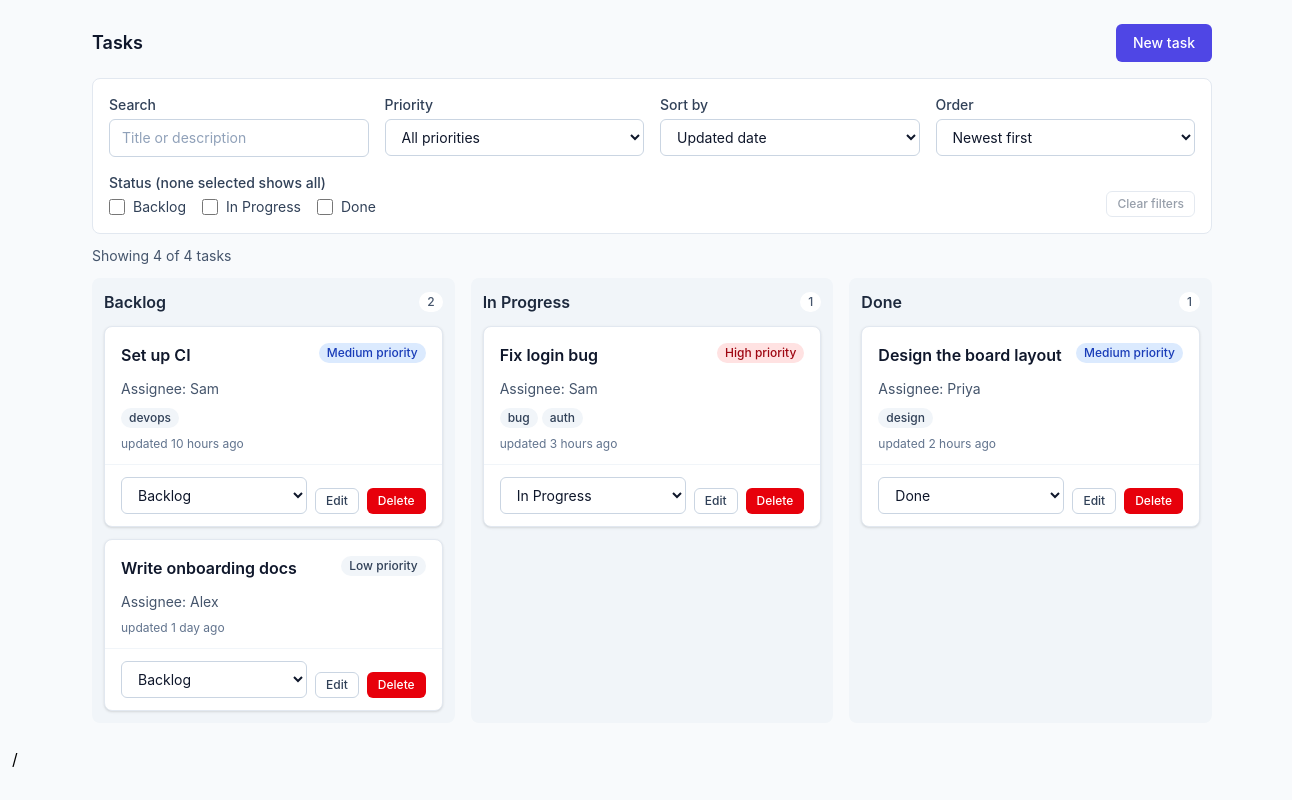
Test: filtering and sorting › does not bring back a search typed just before Clear filters was pressed
Select "Low" in the dropdown labelled "Priority" at (514, 138), box [384, 119, 644, 156]
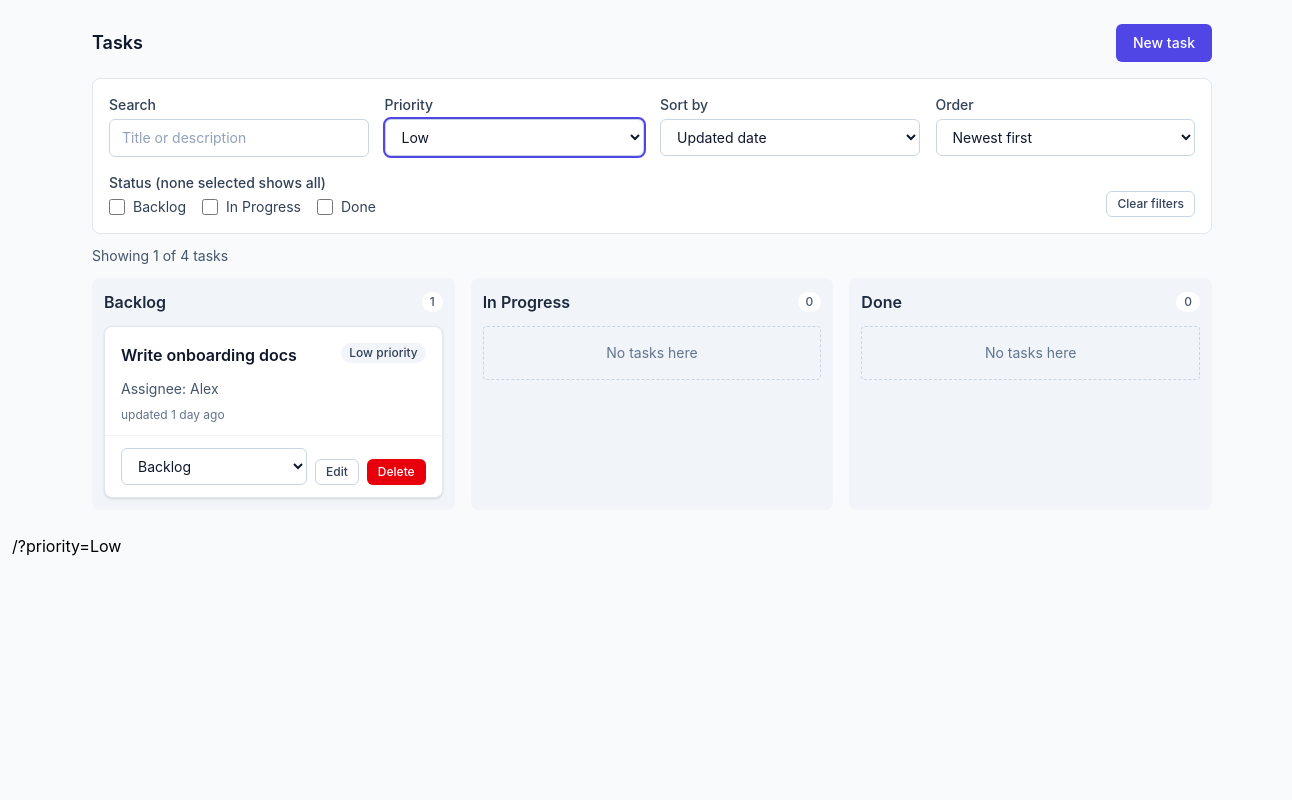
Type "x" into the search field labelled "Search" at (239, 138), box [109, 119, 368, 157]
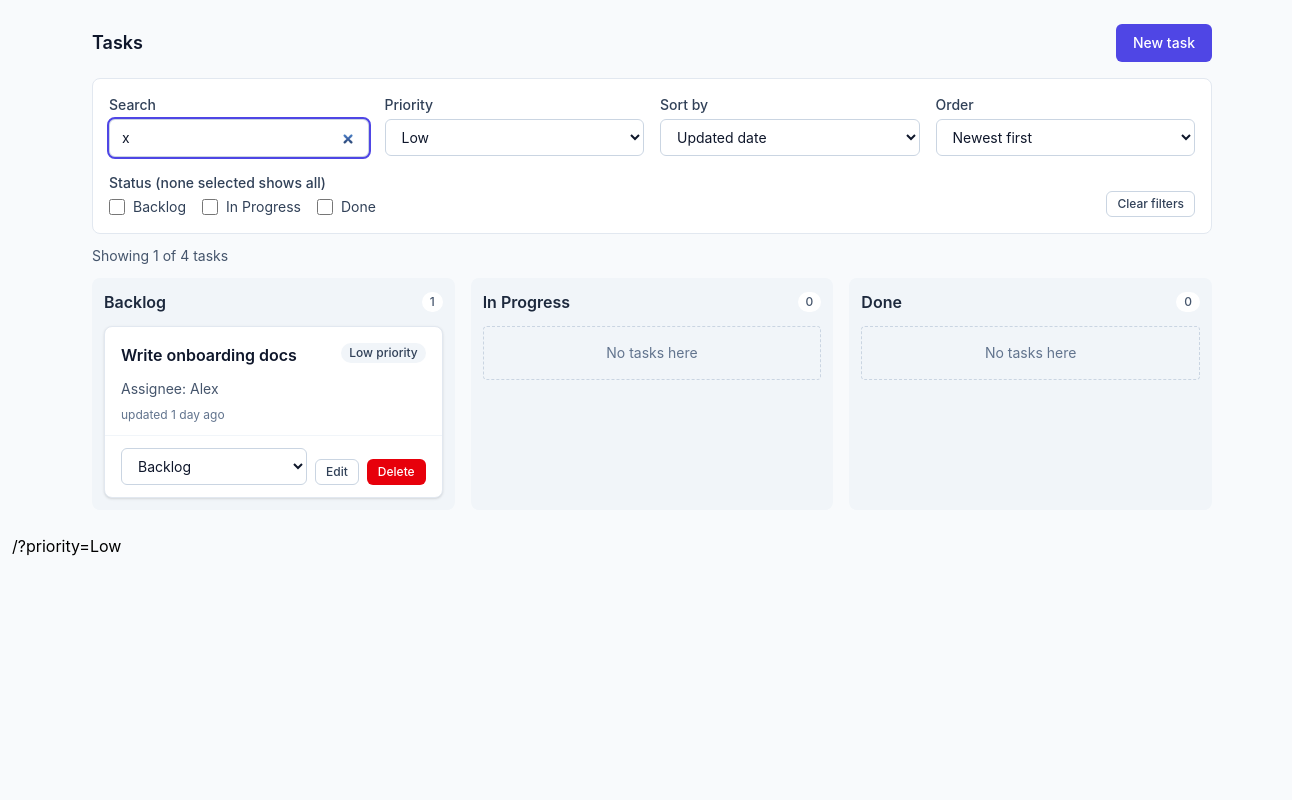
// Pressed well inside the 300 ms search delay, so the "x" search is still waiting on its timer.
Click the button "Clear filters" at (1151, 204), box [1106, 191, 1195, 217]
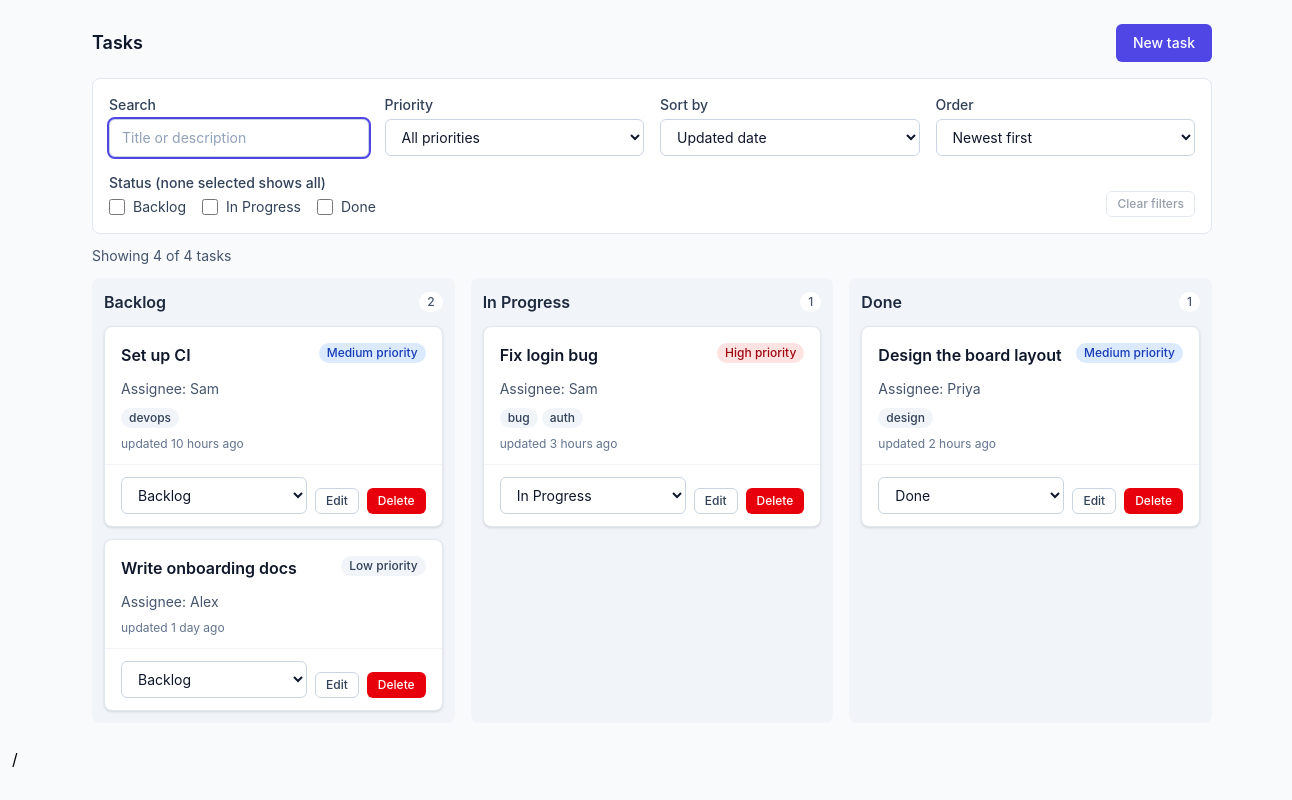
Check: the search field labelled "Search" is empty, box [109, 119, 368, 157]
Check: the text with test id "location" reads "/", box [12, 749, 18, 769]
